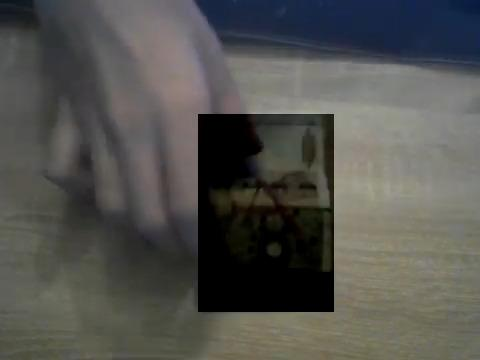10leva: (198, 114, 334, 312)
